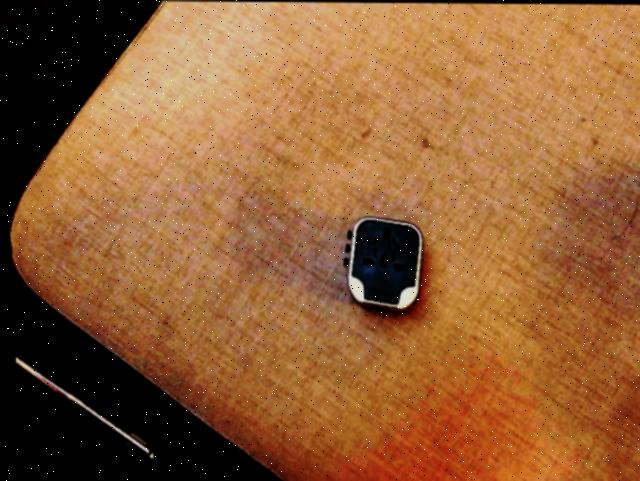adapter: (338, 215, 422, 311)
